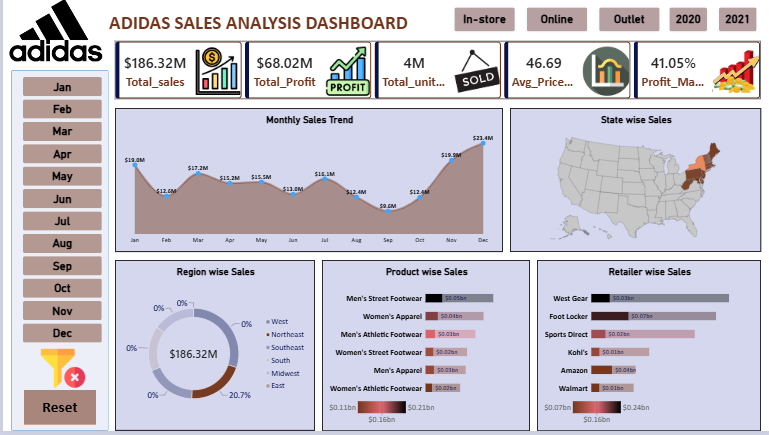

The dashboard page shown, as its layout file describes it:
{"tool":"powerbi","page":{"name":"ADIDAS REPORT","canvas":[1920,1080],"ordinal":0},"visuals":[{"type":"cardVisual","fields":{"Data":["Data Sales Adidas.Total_sales","Data Sales Adidas.Total_Profit","Data Sales Adidas.Total_unit_sold","Data Sales Adidas.Avg_Price_Per_Unit","Data Sales Adidas.Profit_Margin"]},"box":[280,105,1615,145],"z":0},{"type":"image","box":[0,0,264.6,156.2],"z":1000},{"type":"textbox","box":[265,30,842.5,62.5],"z":2000},{"type":"shape","box":[20,177.8,244.4,902.2],"z":3000},{"type":"areaChart","title":"Monthly Sales Trend","fields":{"Category":["Data Sales Adidas.Month"],"Y":["Data Sales Adidas.Total_sales"]},"box":[280,272.5,970,360],"z":4000},{"type":"shapeMap","title":"State wise Sales","fields":{"Category":["Data Sales Adidas.State"],"Value":["Data Sales Adidas.Total_sales"]},"box":[1267.5,272.5,627.5,360],"z":5000},{"type":"donutChart","title":"Region wise Sales","fields":{"Category":["Data Sales Adidas.Region"],"Y":["Data Sales Adidas.Total_sales"]},"box":[280,653.3,500,426.7],"z":6000},{"type":"clusteredBarChart","title":" Product wise Sales","fields":{"Category":["Data Sales Adidas.Product"],"Y":["Data Sales Adidas.Total_sales"]},"box":[797.5,652.5,520,427.5],"z":7000},{"type":"clusteredBarChart","title":" Retailer wise Sales","fields":{"Category":["Data Sales Adidas.Retailer"],"Y":["Data Sales Adidas.Total_sales"]},"box":[1335,652.5,560,427.5],"z":8000},{"type":"advancedSlicerVisual","fields":{"Values":["Data Sales Adidas.Sales Method"]},"box":[1117.5,10,537.5,82.5],"z":9000},{"type":"advancedSlicerVisual","fields":{"Values":["Data Sales Adidas.Invoice Date.Variation.Date Hierarchy.Year"]},"box":[1655,10,240,82.5],"z":10000},{"type":"advancedSlicerVisual","fields":{"Values":["Data Sales Adidas.Month"]},"box":[49.7,194.4,197.5,672.5],"z":10001},{"type":"image","box":[87.5,867.5,124.4,111.1],"z":10002},{"type":"actionButton","box":[52.5,977.5,180,86.7],"z":10003}]}

Visuals, with their boxes in screenshot pixels (x1, y1, x2, y2), scaled from the page's 1920x1080 canvas onto the 769x435 screenshot:
cardVisual - Data Sales Adidas.Total_sales x Data Sales Adidas.Total_Profit: 112, 42, 759, 101
image: 0, 0, 106, 63
textbox: 106, 12, 444, 37
shape: 8, 72, 106, 434
"Monthly Sales Trend" areaChart: 112, 110, 501, 255
"State wise Sales" shapeMap: 508, 110, 759, 255
"Region wise Sales" donutChart: 112, 263, 312, 434
" Product wise Sales" clusteredBarChart: 319, 263, 528, 434
" Retailer wise Sales" clusteredBarChart: 535, 263, 759, 434
advancedSlicerVisual - Data Sales Adidas.Sales Method: 448, 4, 663, 37
advancedSlicerVisual - Data Sales Adidas.Invoice Date.Variation.Date Hierarchy.Year: 663, 4, 759, 37
advancedSlicerVisual - Data Sales Adidas.Month: 20, 78, 99, 349
image: 35, 349, 85, 394
actionButton: 21, 394, 93, 429
